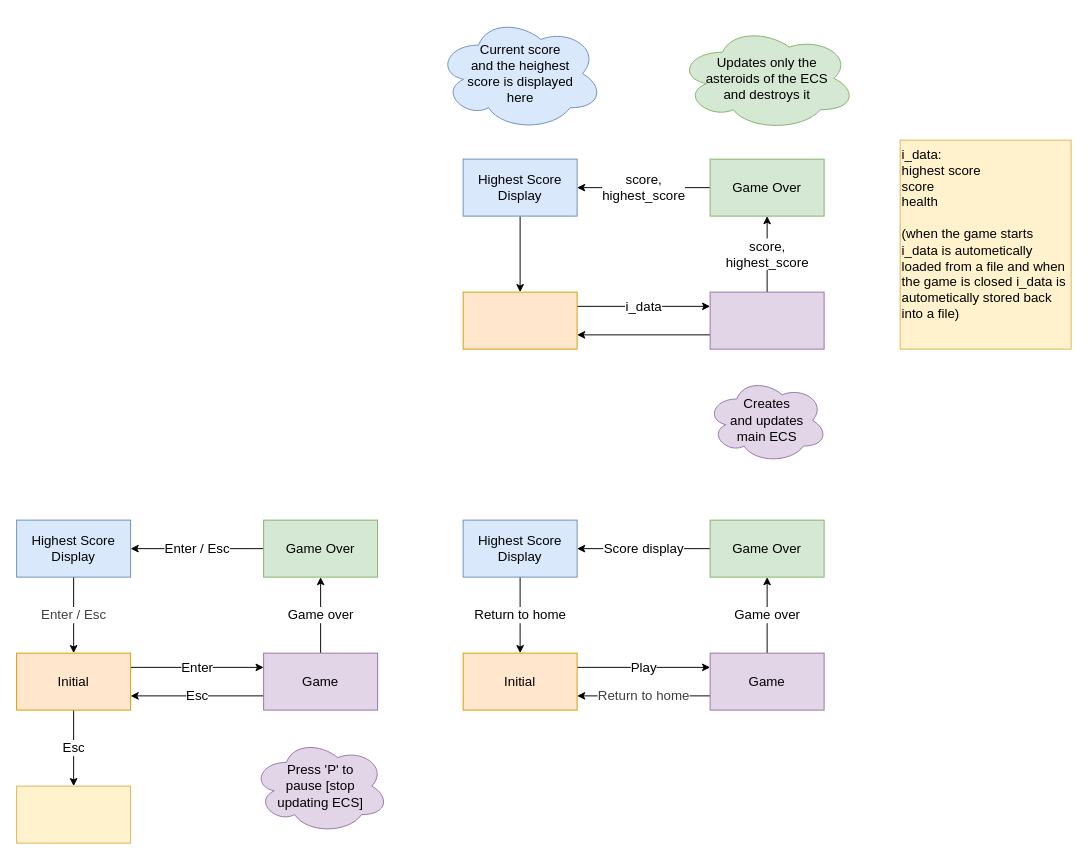
The diagram is 1088 pixels wide and 860 high, and some of its shapes have lost their labels. Here are the shapes that lost their labels. From the top down, the centre of each, then its label:
At pixel 519 320: "Initial [owns i_data]".
At pixel 766 320: "Game [r / w i_data]".
At pixel 73 814: "Exit [close the app]".
